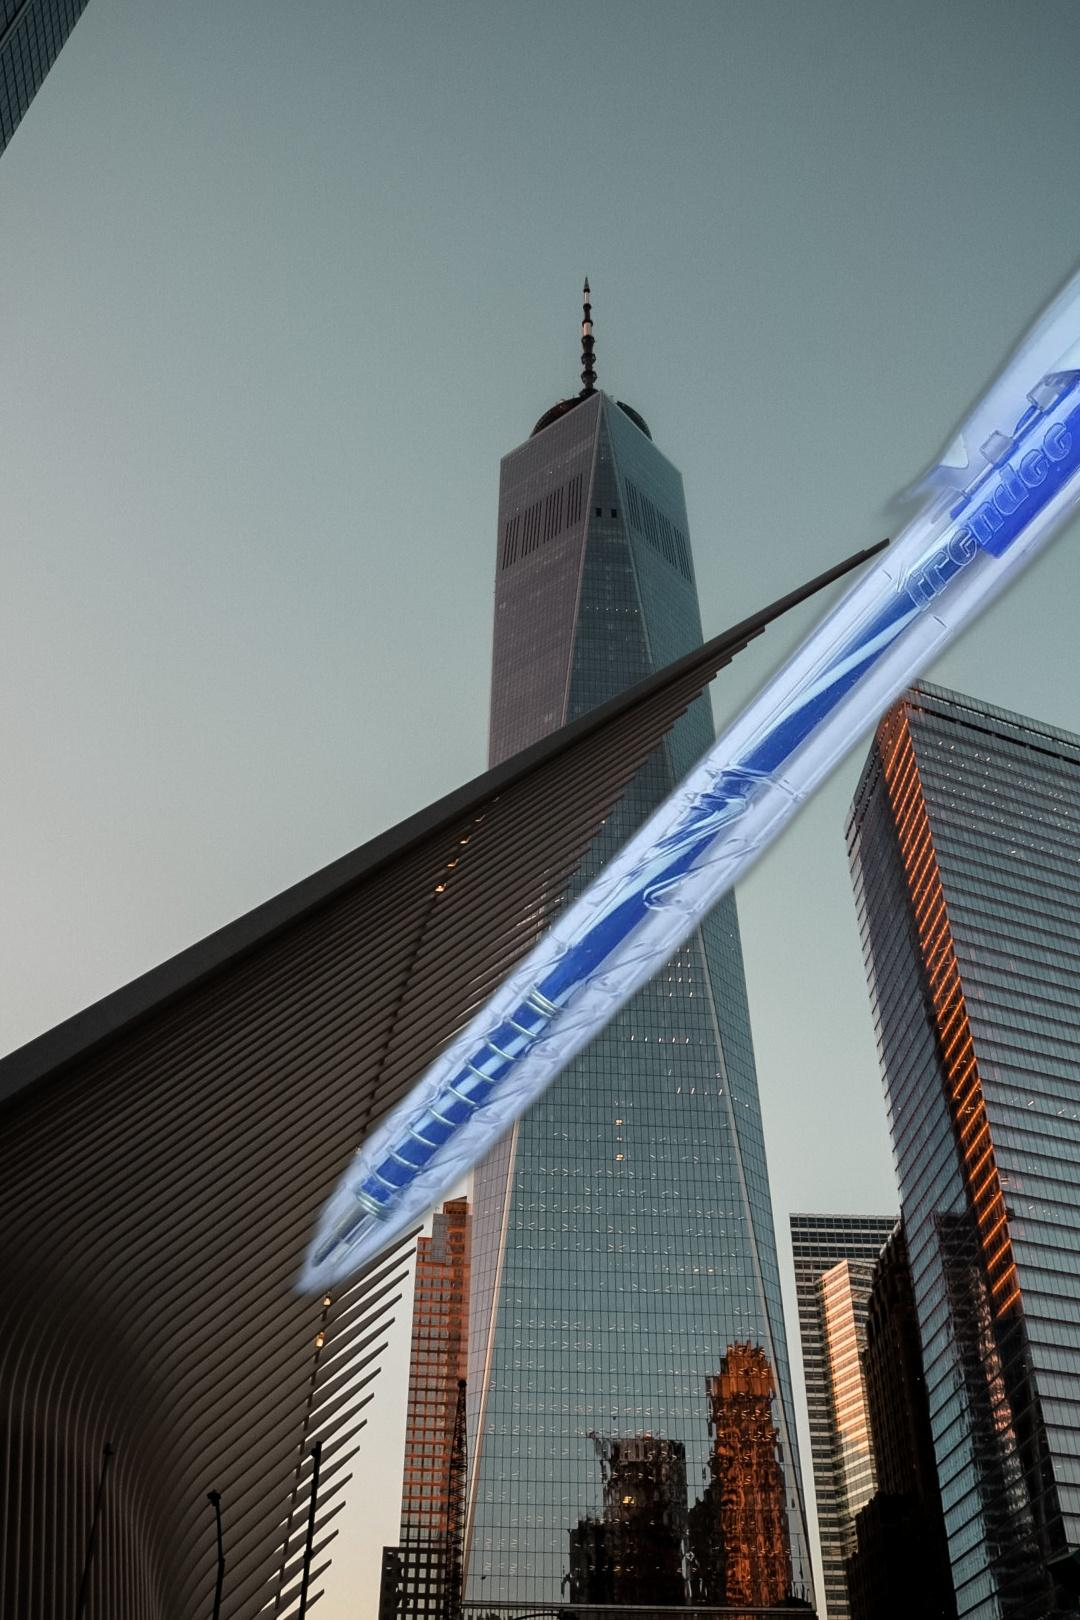penholder: (265, 14, 1080, 1317)
